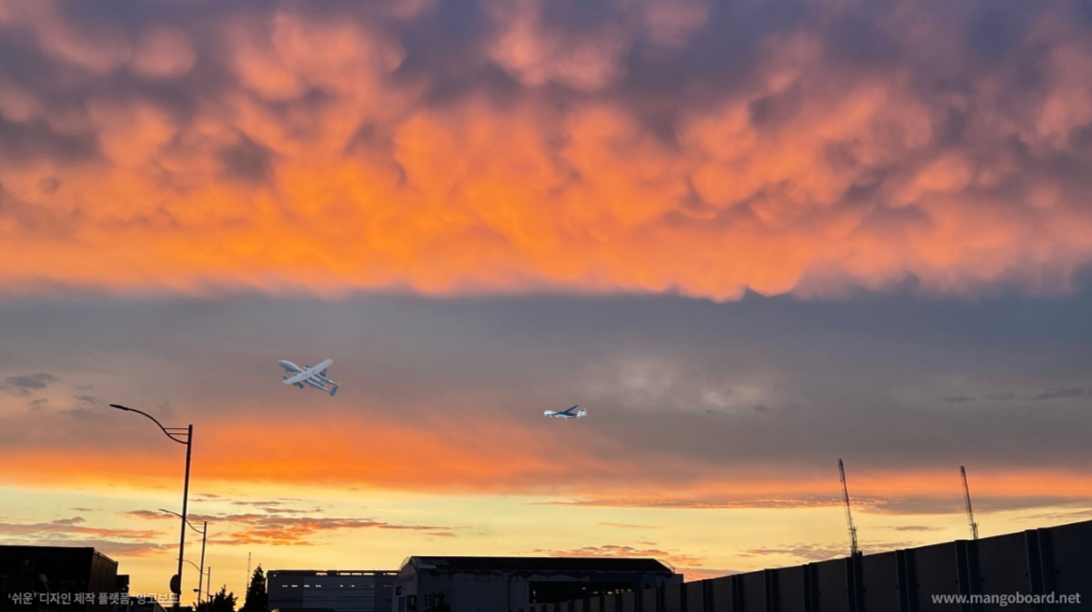military drone: (277, 357, 340, 397)
